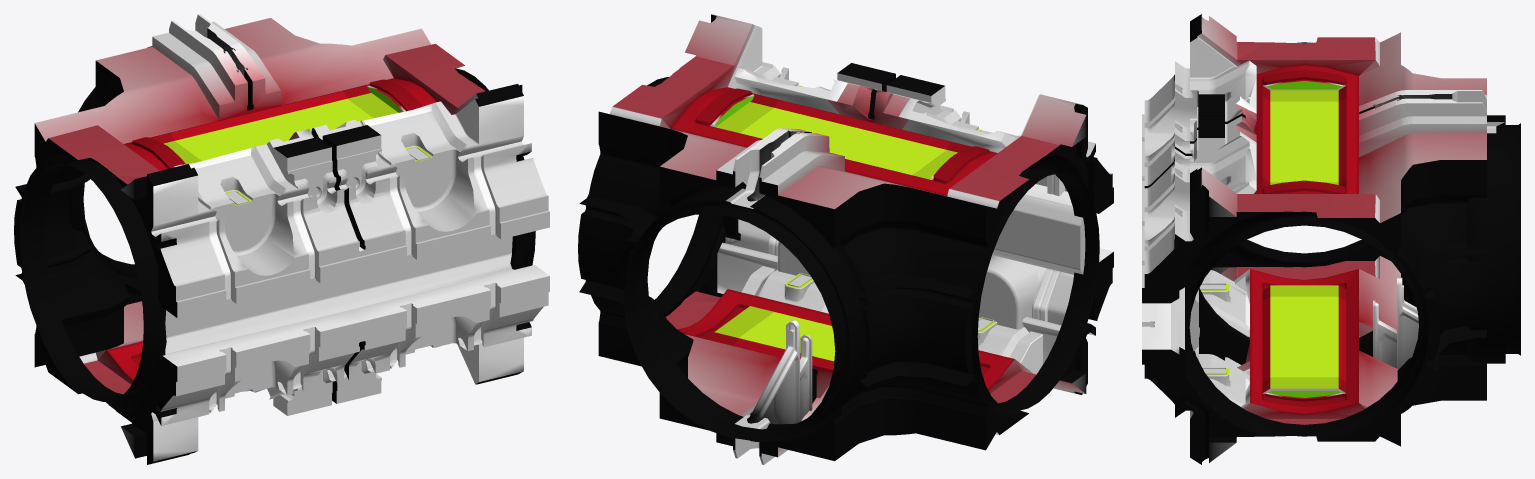
Rendered from part_main-lod0.dae.
3 renders of one model, left to right at view 1: azimuth 30°, elevation 25°; view 2: azimuth 150°, elevation 25°; view 3: azimuth 270°, elevation 25°, orthographic. The views are drawn at different scales.
Visible parts, largest first — view 1: part_main-lod0Xlod0Xp2genericXgen_p2_hulltextureaged_02_b, part_main-lod0Xlod0Xp2genericXgen_p2_hullpattern_01, part_main-lod0Xlod0Xp2genericXgen_p2_hulltexture_02_c, part_main-lod0Xlod0Xp2multimatXp2_multimat_01, part_main-lod0Xlod0Xp2genericXgen_p2_fx_01; view 2: part_main-lod0Xlod0Xp2genericXgen_p2_hulltextureaged_02_b, part_main-lod0Xlod0Xp2genericXgen_p2_hullpattern_01, part_main-lod0Xlod0Xp2genericXgen_p2_hulltexture_02_c, part_main-lod0Xlod0Xp2multimatXp2_multimat_01, part_main-lod0Xlod0Xp2genericXgen_p2_fx_01; view 3: part_main-lod0Xlod0Xp2genericXgen_p2_hulltextureaged_02_b, part_main-lod0Xlod0Xp2genericXgen_p2_hullpattern_01, part_main-lod0Xlod0Xp2genericXgen_p2_hulltexture_02_c, part_main-lod0Xlod0Xp2multimatXp2_multimat_01, part_main-lod0Xlod0Xp2genericXgen_p2_fx_01.
Boxes of the visible parts, <box> form: part_main-lod0Xlod0Xp2genericXgen_p2_hulltextureaged_02_b: <box>17,15,549,458</box>; part_main-lod0Xlod0Xp2genericXgen_p2_hullpattern_01: <box>14,14,549,464</box>; part_main-lod0Xlod0Xp2genericXgen_p2_hulltexture_02_c: <box>15,91,373,288</box>; part_main-lod0Xlod0Xp2multimatXp2_multimat_01: <box>110,78,435,379</box>; part_main-lod0Xlod0Xp2genericXgen_p2_fx_01: <box>273,125,380,157</box>; part_main-lod0Xlod0Xp2genericXgen_p2_hulltextureaged_02_b: <box>579,14,1113,464</box>; part_main-lod0Xlod0Xp2genericXgen_p2_hullpattern_01: <box>624,26,1113,460</box>; part_main-lod0Xlod0Xp2genericXgen_p2_hulltexture_02_c: <box>578,100,977,389</box>; part_main-lod0Xlod0Xp2multimatXp2_multimat_01: <box>674,85,1011,388</box>; part_main-lod0Xlod0Xp2genericXgen_p2_fx_01: <box>838,63,944,95</box>; part_main-lod0Xlod0Xp2genericXgen_p2_hulltextureaged_02_b: <box>1142,14,1520,461</box>; part_main-lod0Xlod0Xp2genericXgen_p2_hullpattern_01: <box>1142,14,1482,464</box>; part_main-lod0Xlod0Xp2genericXgen_p2_hulltexture_02_c: <box>1262,97,1486,381</box>; part_main-lod0Xlod0Xp2multimatXp2_multimat_01: <box>1200,65,1356,413</box>; part_main-lod0Xlod0Xp2genericXgen_p2_fx_01: <box>1198,94,1224,137</box>.
Bounding box in the file's own units: 32.39 × 23.59 × 28.35.
